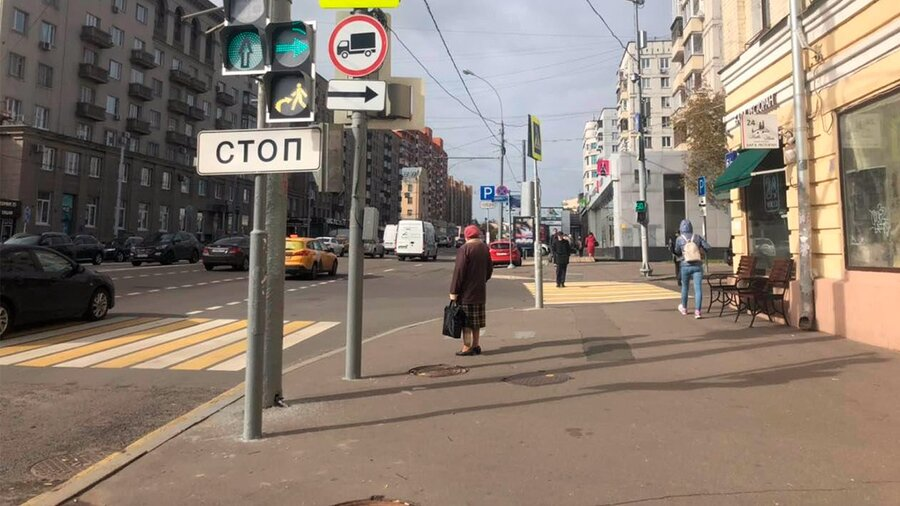tl: (208, 1, 321, 128)
